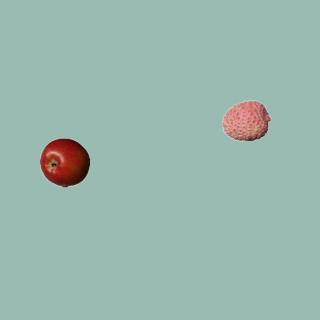Apple Braeburn: (39, 137, 89, 187)
Lychee: (221, 95, 271, 145)
